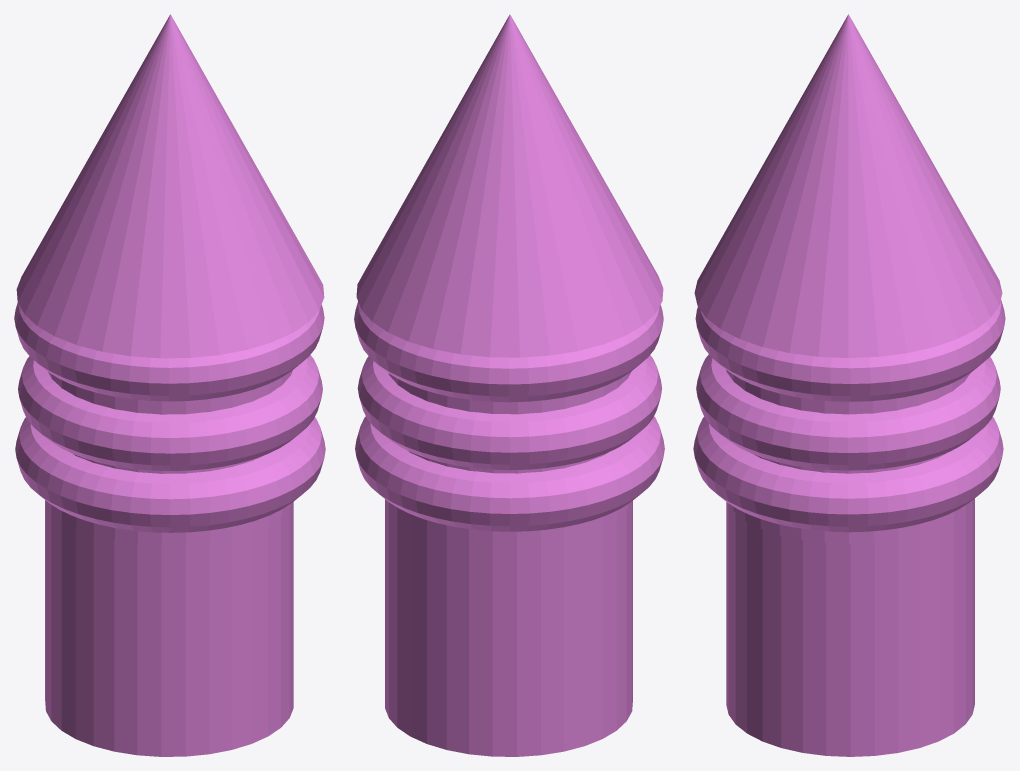
Rendered from disney_p1.gltf.
3 views of the same model, side by side, from view 1: azimuth 30°, elevation 25°; view 2: azimuth 150°, elevation 25°; view 3: azimuth 270°, elevation 25° (orthographic).
Visible parts, largest first — view 1: Cone.001, Cylinder.003, Torus.005, Torus.004, Torus.003, Cylinder.002; view 2: Cone.001, Cylinder.003, Torus.005, Torus.004, Torus.003, Cylinder.002; view 3: Cone.001, Cylinder.003, Torus.005, Torus.004, Torus.003, Cylinder.002.
Part boxes in pixels (x1,y1,x2,y2): Cone.001: [16, 14, 324, 358]; Cylinder.003: [45, 500, 293, 756]; Torus.005: [15, 417, 325, 532]; Torus.004: [18, 355, 322, 470]; Torus.003: [14, 302, 324, 401]; Cylinder.002: [48, 370, 292, 544]; Cone.001: [356, 14, 663, 357]; Cylinder.003: [385, 499, 632, 756]; Torus.005: [355, 416, 664, 531]; Torus.004: [357, 355, 662, 470]; Torus.003: [354, 301, 663, 402]; Cylinder.002: [388, 371, 631, 525]; Cone.001: [694, 14, 1002, 357]; Cylinder.003: [726, 498, 974, 756]; Torus.005: [693, 417, 1003, 532]; Torus.004: [696, 354, 1000, 470]; Torus.003: [695, 300, 1005, 401]; Cylinder.002: [726, 369, 970, 543].
Bounding box in the file's own units: 10.54 × 25.88 × 10.6.
